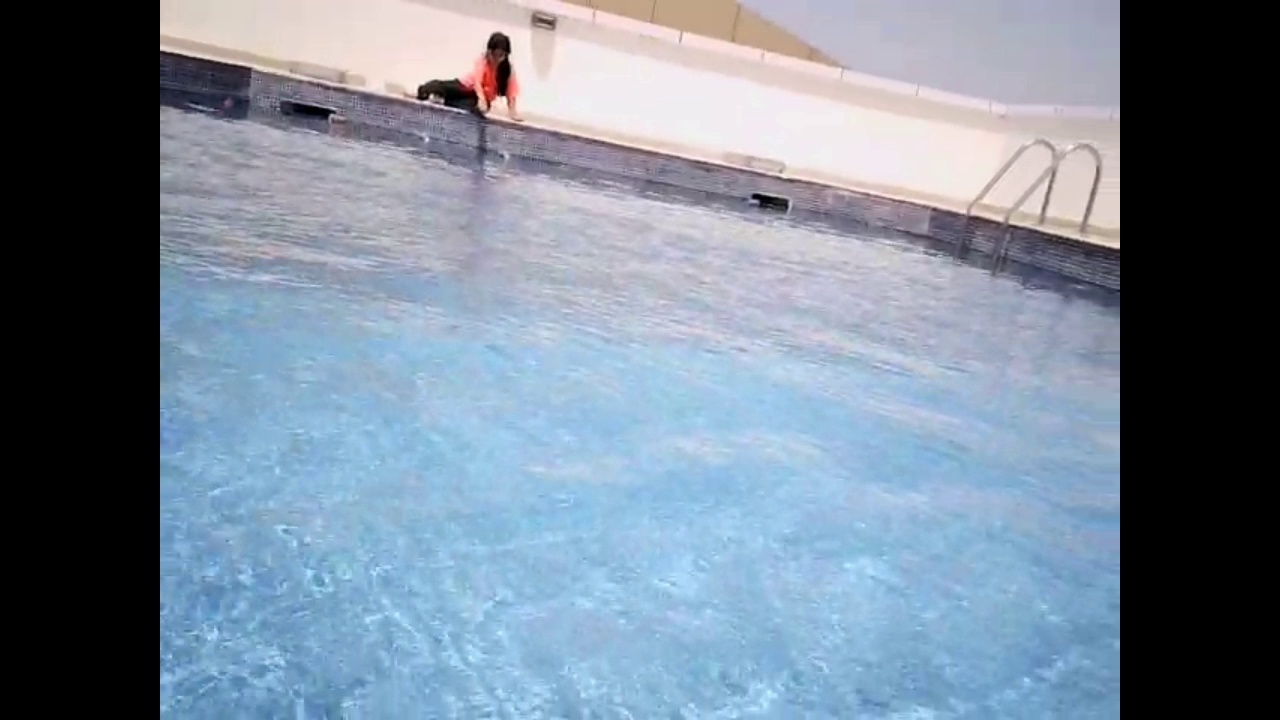debris: (325, 110, 356, 130), (738, 190, 766, 212), (410, 126, 434, 143), (216, 92, 236, 109), (491, 144, 510, 161)
